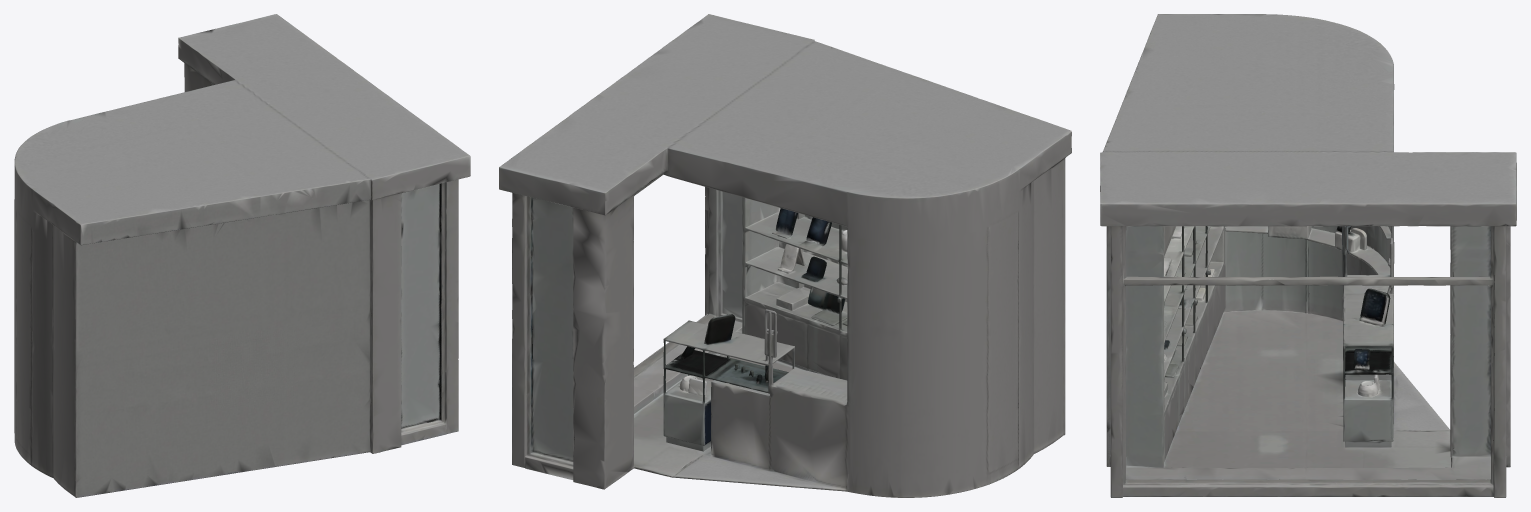
The model's file is frontelc.glb.
3 renders of one model, left to right at view 1: azimuth 30°, elevation 25°; view 2: azimuth 150°, elevation 25°; view 3: azimuth 270°, elevation 25°, orthographic. The views are drawn at different scales.
Parts seen in each view (by area): view 1: tripo_node_19cd6529-3a9a-4625-a380-2c778788e2b9; view 2: tripo_node_19cd6529-3a9a-4625-a380-2c778788e2b9; view 3: tripo_node_19cd6529-3a9a-4625-a380-2c778788e2b9.
Boxes of the visible parts, left/top/right/bottom form: tripo_node_19cd6529-3a9a-4625-a380-2c778788e2b9: left=14, top=14, right=470, bottom=497; tripo_node_19cd6529-3a9a-4625-a380-2c778788e2b9: left=499, top=14, right=1071, bottom=497; tripo_node_19cd6529-3a9a-4625-a380-2c778788e2b9: left=1100, top=14, right=1516, bottom=497.
Size of the model in its own units: 2.88 by 2.1 by 2.66.
Materials: 1 (1 with a texture image).
